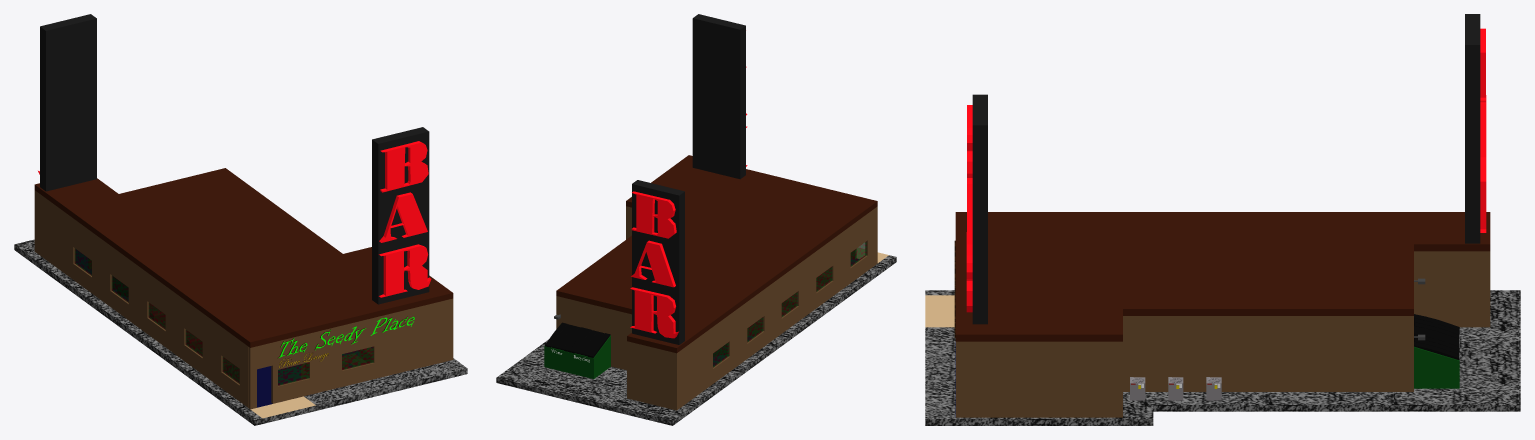
File: Seedy Bar.glb
3 renders of one model, left to right at view 1: azimuth 30°, elevation 25°; view 2: azimuth 150°, elevation 25°; view 3: azimuth 270°, elevation 25°, orthographic. The views are drawn at different scales.
Parts seen in each view (by area): view 1: Roof, Walls, Sign, Sign.001, Floor & Site, Windows, Sign Front, Booth; view 2: Roof, Walls, Sign, Sign.001, Floor & Site, Dumpster, Dumpster Lids, Windows, Booth; view 3: Roof, Walls, Floor & Site, Sign.001, Sign, Dumpster, Dumpster Lids, CUs.
Boxes of the visible parts, x1,y1,x2,y2 form: Roof: (34,168,453,347); Walls: (34,190,453,409); Sign: (372,127,431,304); Sign.001: (38,14,96,191); Floor & Site: (14,239,467,425); Windows: (74,248,373,385); Sign Front: (277,316,414,367); Booth: (150,304,372,381); Roof: (556,155,877,353); Walls: (556,206,877,410); Sign: (692,14,747,179); Sign.001: (630,180,684,344); Floor & Site: (496,248,896,425); Dumpster: (544,335,610,378); Dumpster Lids: (545,322,610,357); Windows: (713,241,866,367); Booth: (747,268,830,336); Roof: (955,212,1490,341); Walls: (956,251,1490,417); Floor & Site: (925,290,1520,425); Sign.001: (1465,14,1486,243); Sign: (966,94,987,324); Dumpster: (1414,335,1459,388); Dumpster Lids: (1414,314,1459,360); CUs: (1130,377,1221,400).
Size of what is drawn, in the model's own units: 12.16 by 12.73 by 23.77.
Materials: 64 (5 with a texture image).
